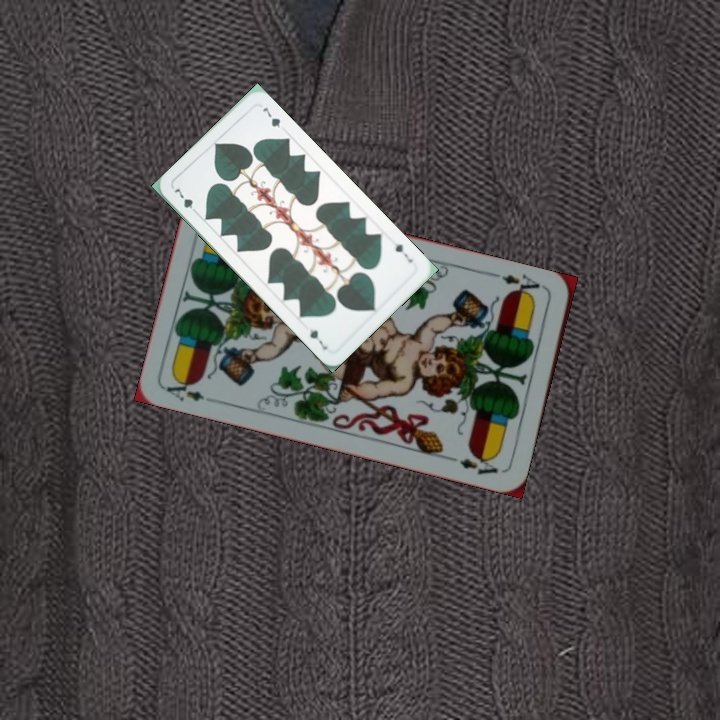EA: (498, 270, 548, 301), (162, 374, 207, 404)
G7: (170, 183, 201, 217), (391, 239, 416, 265)
